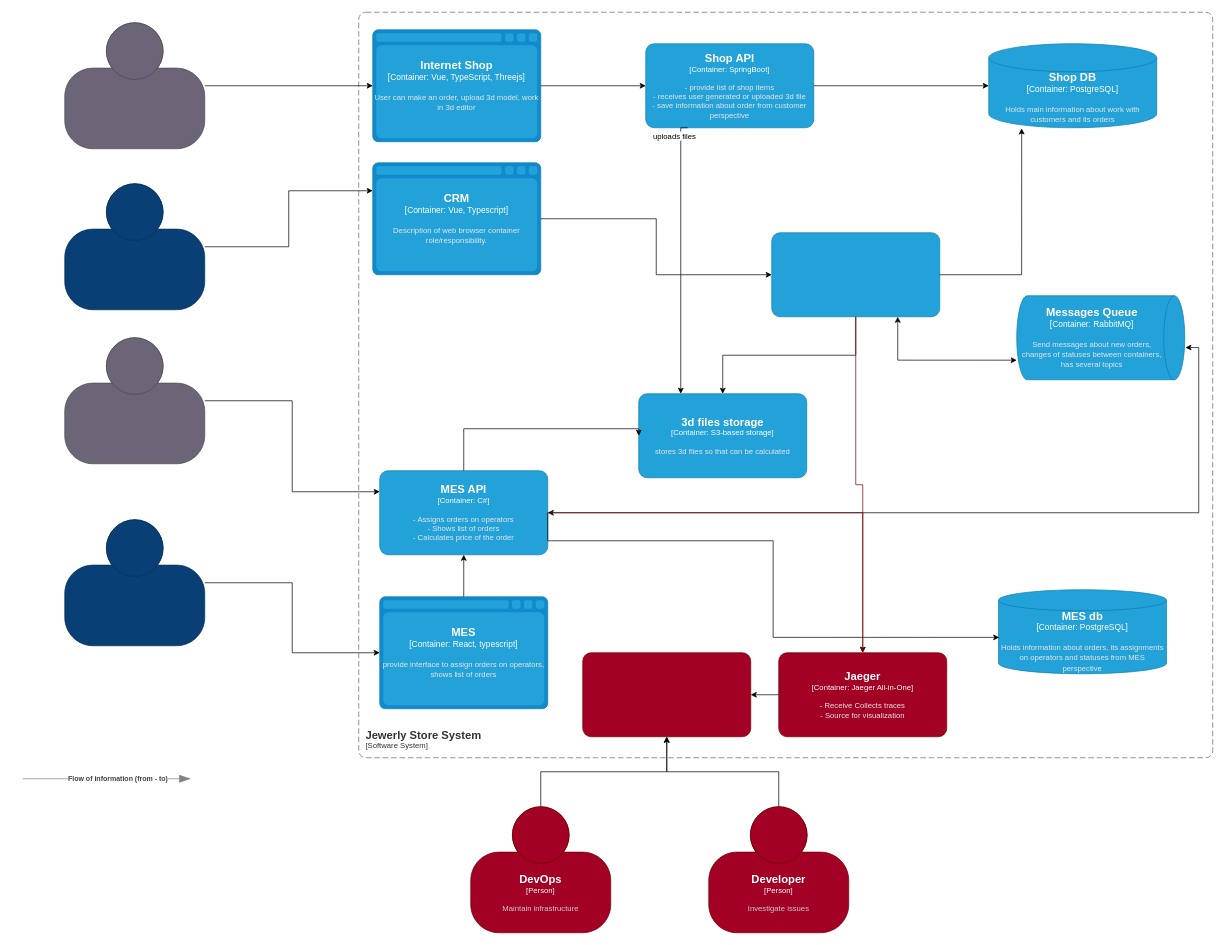
Some shapes in this 1225 by 945 pixel diagram are drawn without their labels. Each missing label, with the centre of its shape:
"API user [Person] Description of external person." belongs at (134,400).
"CRM API [Container: SpringBoot] Description of container role/responsibility." belongs at (855,274).
"Customer [Person] Description of external person." belongs at (134,85).
"Jaeger UI [Container: Jaeger frontend] - visualize traces" belongs at (666,694).
"Operator [Person] Takes order in work, manufactures jewerly" belongs at (134,582).
"Seller [Person] Operates with order, confirms manufacturing for the user" belongs at (134,246).
